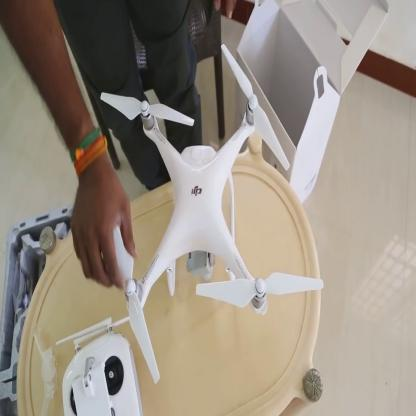drone: (90, 45, 330, 386)
